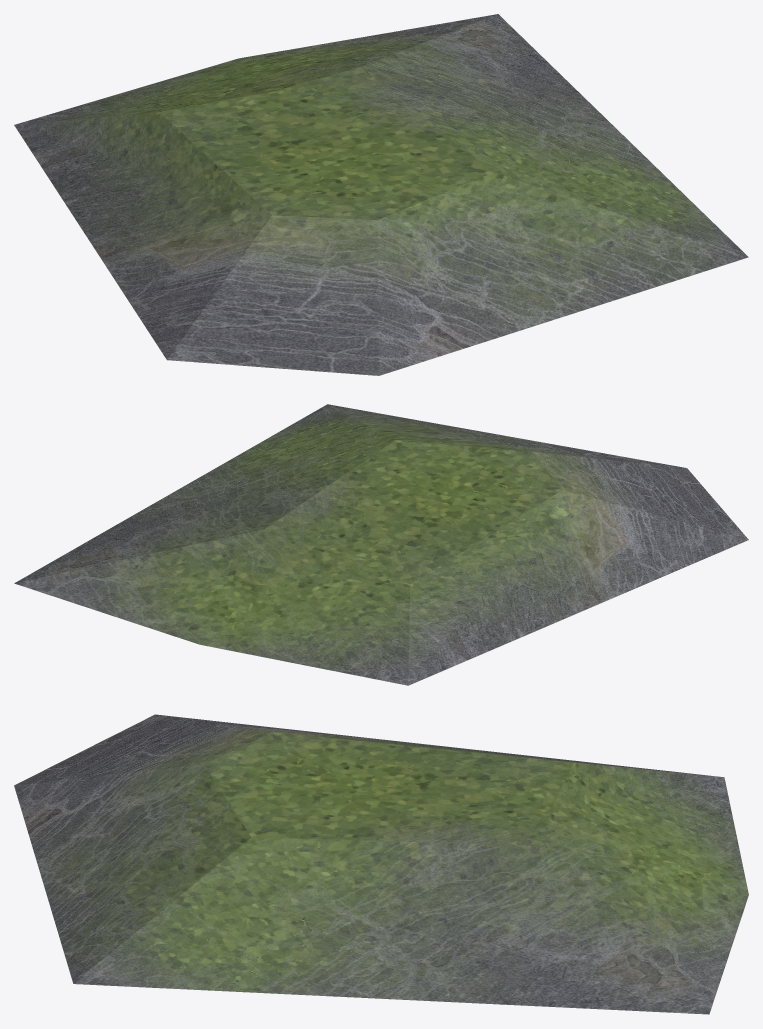
File: 3DObj_LandV2_2.fbx
The picture shows the model from 3 angles, top to bottom: view 1: azimuth 30°, elevation 25°; view 2: azimuth 150°, elevation 25°; view 3: azimuth 270°, elevation 25°; orthographic projection. The views are drawn at different scales.
Parts seen in each view (by area): view 1: 3DObj_Land_5.001; view 2: 3DObj_Land_5.001; view 3: 3DObj_Land_5.001.
Boxes of the visible parts, x1,y1,x2,y2 form: 3DObj_Land_5.001: (14,14,748,375); 3DObj_Land_5.001: (14,404,748,685); 3DObj_Land_5.001: (14,714,748,1014).
Size of the model in its own units: 544 by 56.3 by 563.
1 material, 1 textured.
